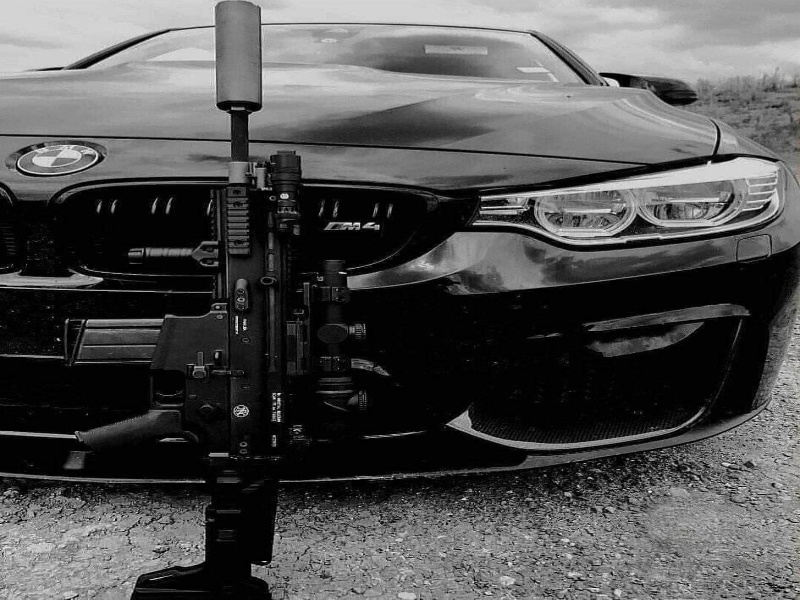car: (1, 23, 800, 487)
weapon: (62, 1, 367, 600)
